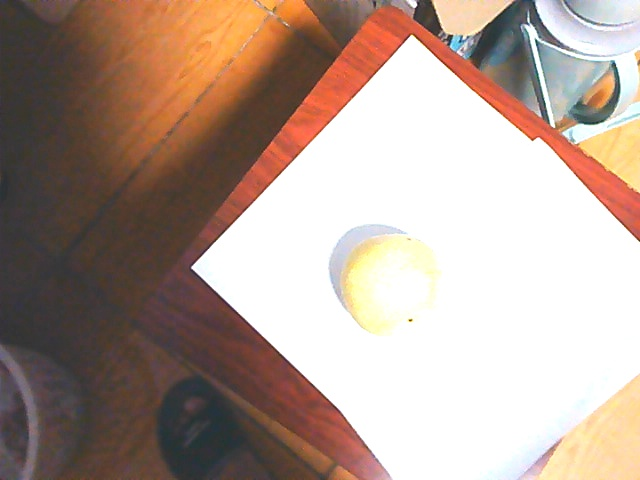pear: (339, 235, 441, 334)
